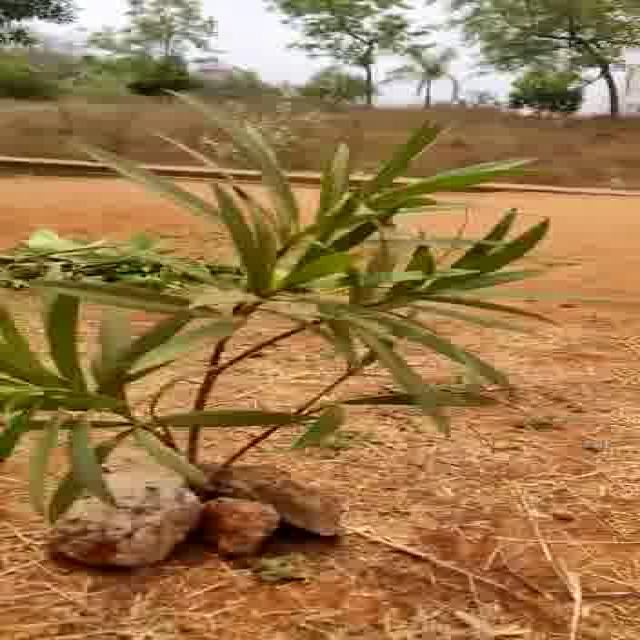Oleander: (1, 116, 548, 462)
